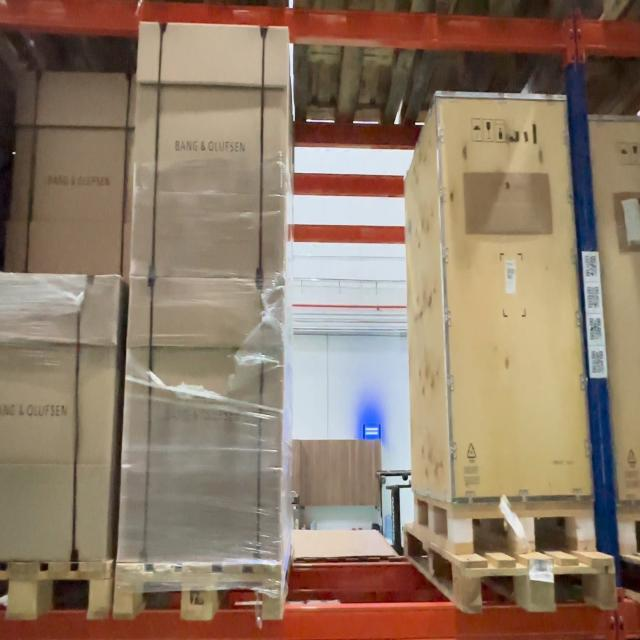box: (448, 100, 566, 503), (134, 286, 280, 552), (142, 28, 280, 278)
